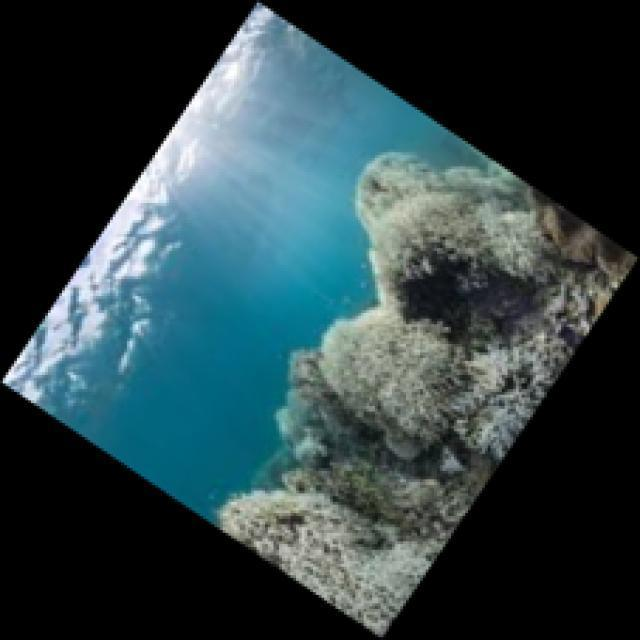Bleached: (218, 151, 640, 640)
